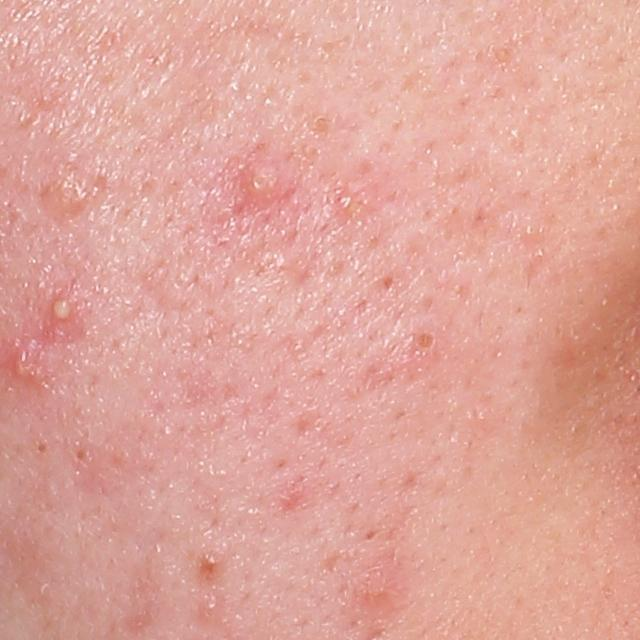comedo: (3, 336, 47, 384), (413, 332, 437, 349), (73, 445, 90, 467), (35, 441, 49, 457)
pustule: (50, 299, 73, 322)
